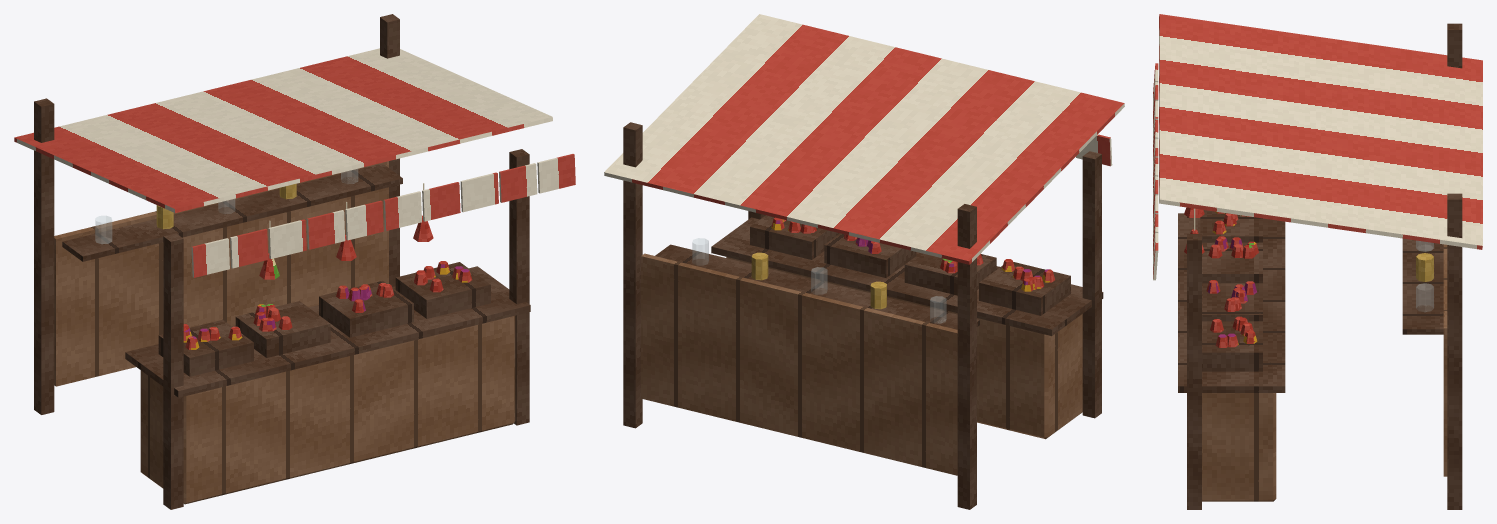
Rendered from market_stall.glb.
3 views of the same model, side by side, from view 1: azimuth 30°, elevation 25°; view 2: azimuth 150°, elevation 25°; view 3: azimuth 270°, elevation 25° (orthographic). The views are drawn at different scales.
Visible parts, largest first — view 1: body; view 2: body; view 3: body.
Boxes of the visible parts, box(x1,y1,x2,y2) form: body: box(14, 14, 575, 509); body: box(604, 14, 1124, 509); body: box(1153, 14, 1482, 509).
Bounding box in the file's own units: 3.11 × 2.34 × 2.22.
Materials: 7 (5 with a texture image).
